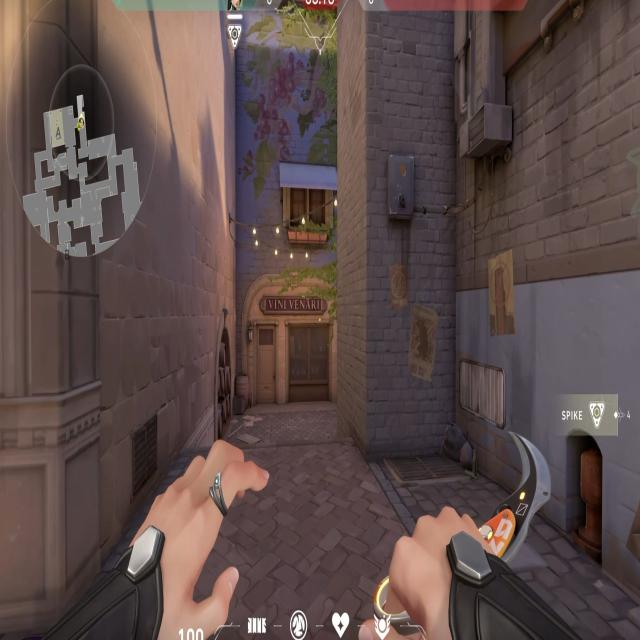Wine: (260, 276, 462, 434)
